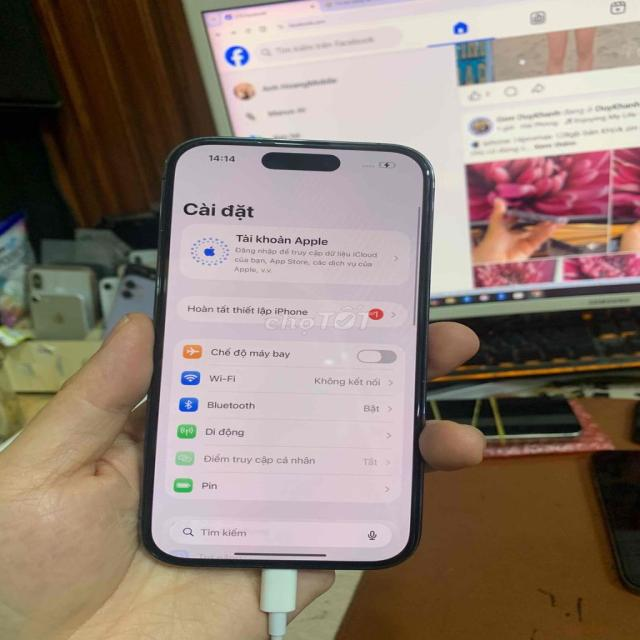gen_14: (139, 125, 438, 574)
